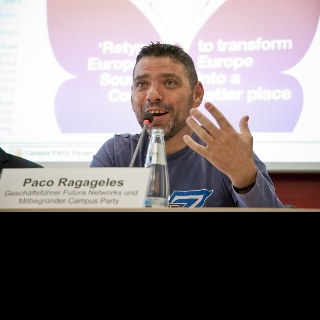without_mask: (131, 55, 193, 138)
